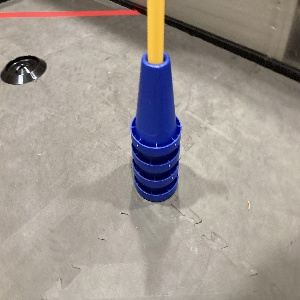Blue_4: (130, 50, 181, 201)
